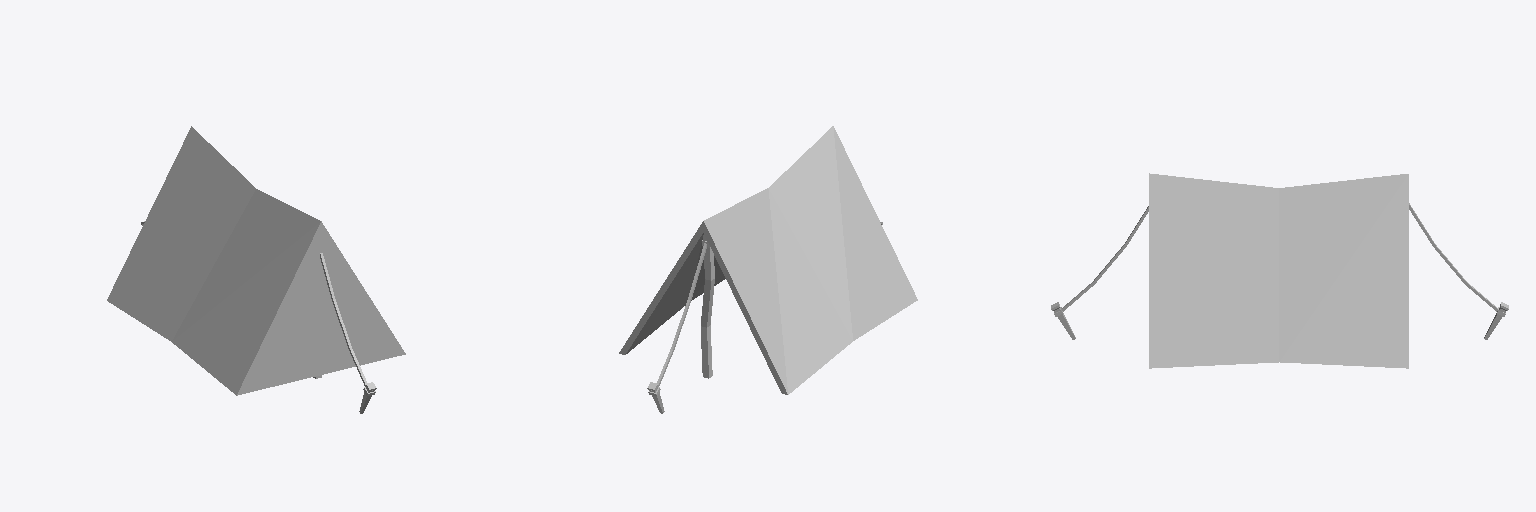
File: TentRed.obj
3 renders of one model, left to right at view 1: azimuth 30°, elevation 25°; view 2: azimuth 150°, elevation 25°; view 3: azimuth 270°, elevation 25°, orthographic.
Visible parts, largest first — view 1: Tent_Green_Cylinder.033; view 2: Tent_Green_Cylinder.033; view 3: Tent_Green_Cylinder.033.
Boxes of the visible parts, x1=… form: Tent_Green_Cylinder.033: x1=107, y1=126, x2=405, y2=413; Tent_Green_Cylinder.033: x1=619, y1=126, x2=917, y2=413; Tent_Green_Cylinder.033: x1=1051, y1=173, x2=1508, y2=368.
Size of the model in its own units: 7.21 by 6.71 by 16.85.